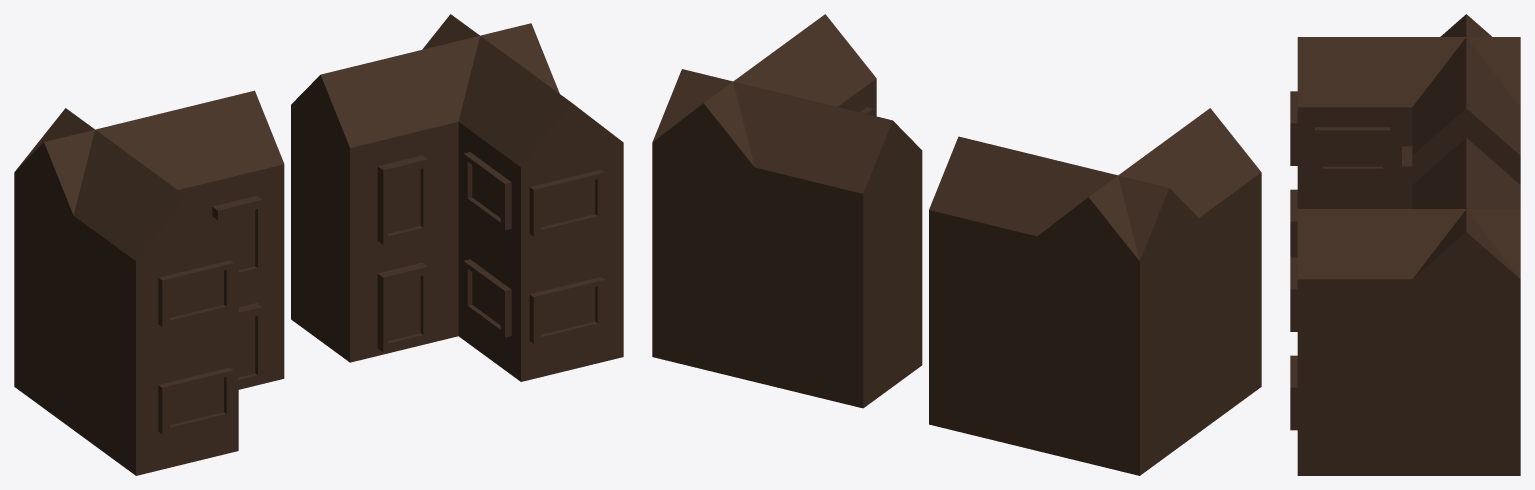
Rendered from Worker's House Lvl2 UV.fbx.
3 views of the same model, side by side, from view 1: azimuth 30°, elevation 25°; view 2: azimuth 150°, elevation 25°; view 3: azimuth 270°, elevation 25° (orthographic). The views are drawn at different scales.
Parts seen in each view (by area): view 1: WorkerHouse.001, WorkerHouse; view 2: WorkerHouse, WorkerHouse.001; view 3: WorkerHouse.001, WorkerHouse.
Part boxes in pixels (x1,y1,x2,y2): WorkerHouse.001: (291,14,623,381); WorkerHouse: (14,90,284,475); WorkerHouse: (929,108,1261,475); WorkerHouse.001: (652,14,922,408); WorkerHouse.001: (1290,138,1520,475); WorkerHouse: (1290,14,1520,257).
Size of the model in its own units: 2187 by 1142 by 977.
